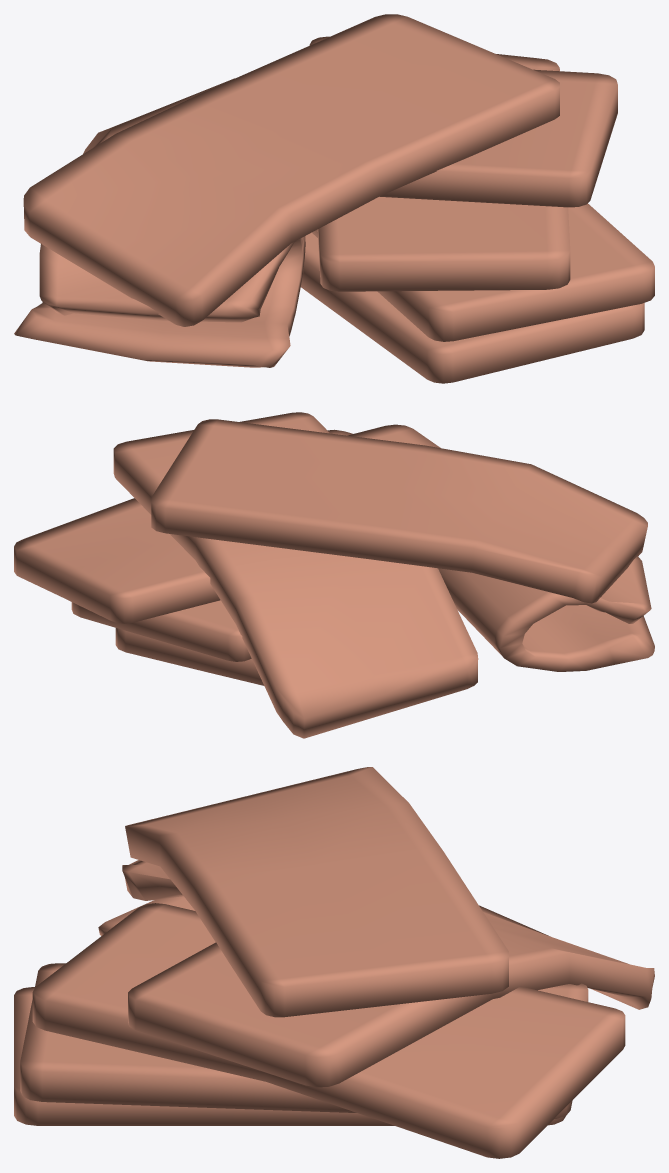
The model's file is mattress_4pack.fbx.
The picture shows the model from 3 angles, top to bottom: view 1: azimuth 30°, elevation 25°; view 2: azimuth 150°, elevation 25°; view 3: azimuth 270°, elevation 25°; orthographic projection. The views are drawn at different scales.
Parts seen in each view (by area): view 1: bed_wall.009; view 2: bed_wall.009; view 3: bed_wall.009.
Boxes of the visible parts, box(x1,y1,x2,y2) form: bed_wall.009: box(14, 14, 654, 383); bed_wall.009: box(14, 412, 654, 738); bed_wall.009: box(14, 767, 654, 1158).
Bounding box in the file's own units: 2.67 × 0.6637 × 2.26.
